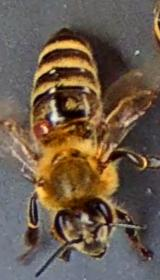varroa_mite: (28, 110, 56, 144)
